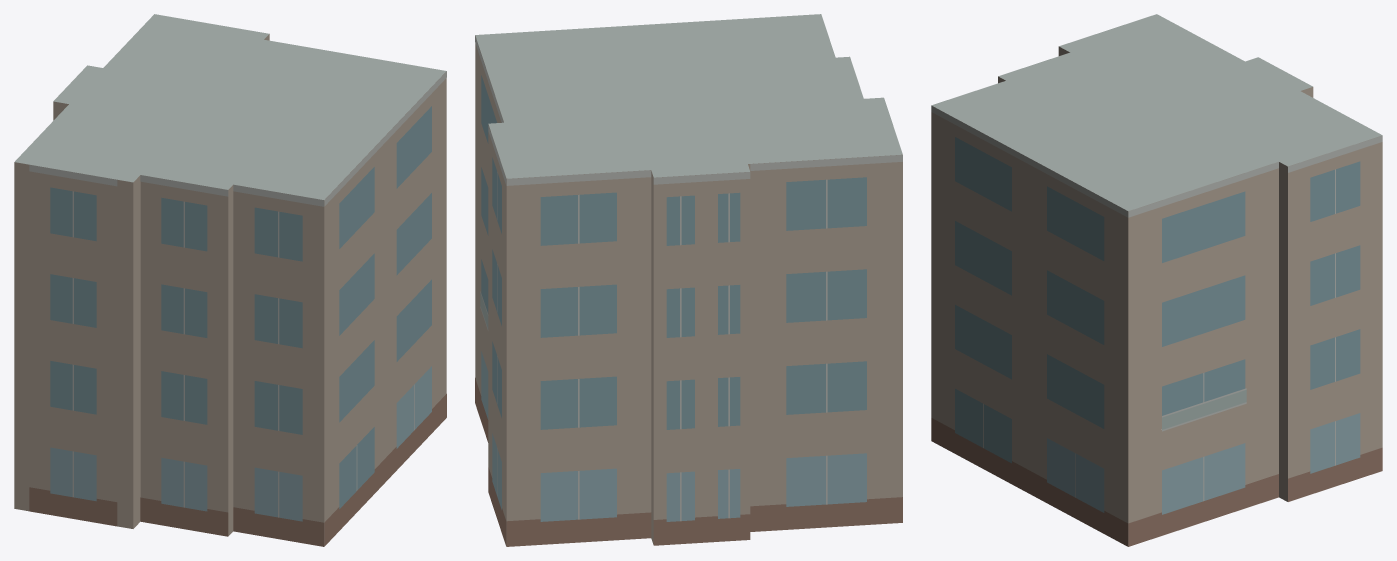
Rendered from survey-upis-32754259.glb.
3 renders of one model, left to right at view 1: azimuth 30°, elevation 25°; view 2: azimuth 150°, elevation 25°; view 3: azimuth 270°, elevation 25°, orthographic. The views are drawn at different scales.
Visible parts, largest first — view 1: survey-upis-32754259.tmp; view 2: survey-upis-32754259.tmp; view 3: survey-upis-32754259.tmp.
Part boxes in pixels (<box>): survey-upis-32754259.tmp: <box>14,14,446,546</box>; survey-upis-32754259.tmp: <box>475,14,902,546</box>; survey-upis-32754259.tmp: <box>931,14,1382,546</box>.
Size of the model in its own units: 15.89 by 12.6 by 15.37.
